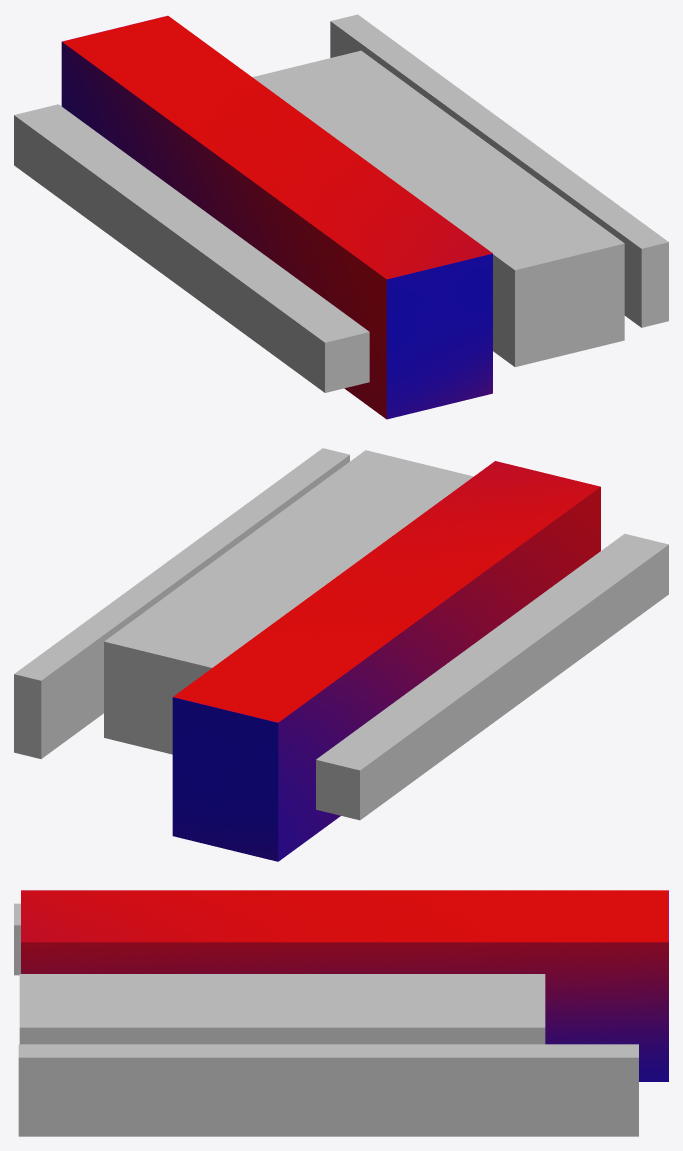
Rendered from Marker_38_Mesh4.fbx.
3 renders of one model, top to bottom at view 1: azimuth 30°, elevation 25°; view 2: azimuth 150°, elevation 25°; view 3: azimuth 270°, elevation 25°, orthographic.
Visible parts, largest first — view 1: Cube, Cube.001, Cube.002, Cube.003; view 2: Cube, Cube.001, Cube.002, Cube.003; view 3: Cube, Cube.003, Cube.001, Cube.002.
Boxes of the visible parts, left/top/right/bottom form: Cube: left=61, top=15, right=492, bottom=419; Cube.001: left=252, top=50, right=624, bottom=367; Cube.002: left=14, top=104, right=369, bottom=392; Cube.003: left=330, top=14, right=668, bottom=327; Cube: left=172, top=461, right=600, bottom=861; Cube.001: left=104, top=450, right=473, bottom=754; Cube.002: left=316, top=534, right=668, bottom=820; Cube.003: left=14, top=448, right=349, bottom=758; Cube: left=21, top=890, right=668, bottom=1081; Cube.003: left=18, top=1044, right=638, bottom=1136; Cube.001: left=19, top=974, right=545, bottom=1044; Cube.002: left=14, top=903, right=20, bottom=975.
Bounding box in the file's own units: 404 × 156 × 663.
